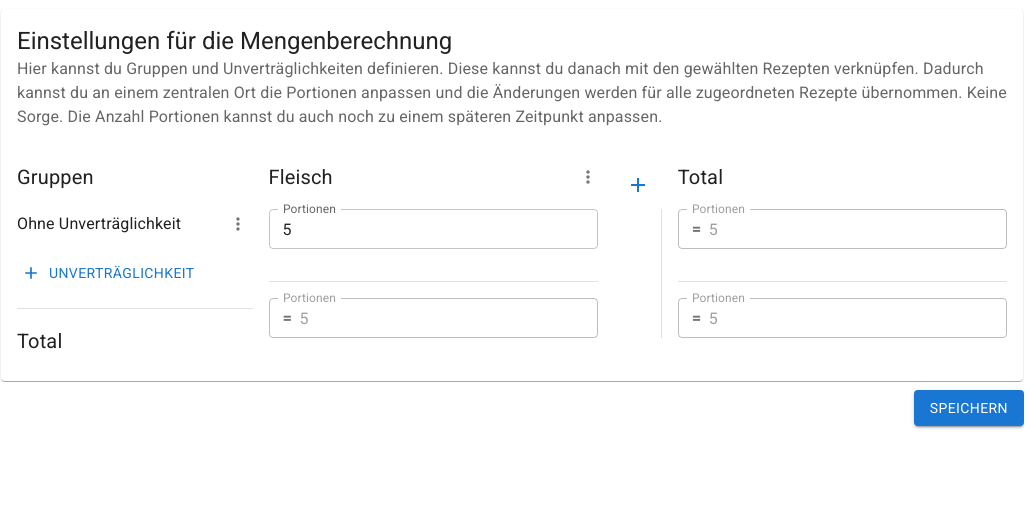
it: EventGroupConfigurationPage — Speichern (CHUCHIPIRAT-FV) › zeigt bei einem Netzfehler eine Meldung, bleibt auf der Seite und meldet nicht
The width and height of the screenshot is (1036, 522).
Step 1. Click the button "Speichern" → click(969, 408), box [914,390,1024,426]
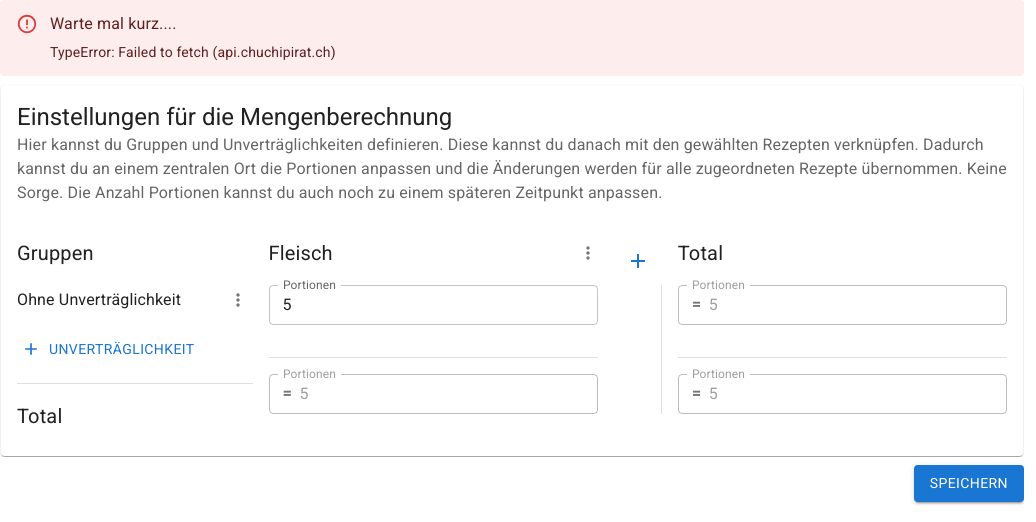
Now the text "Failed to fetch" is shown, box [50,44,336,60]
